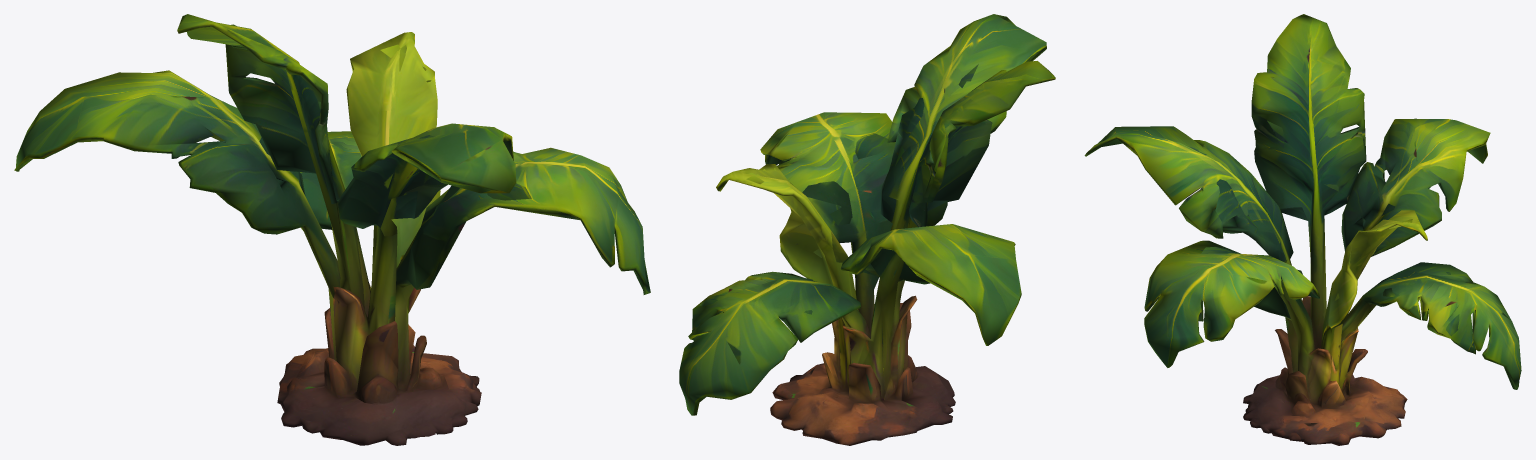
The model's file is broadleaf-plant-v3-lod.glb.
The picture shows the model from 3 angles, left to right: view 1: azimuth 30°, elevation 25°; view 2: azimuth 150°, elevation 25°; view 3: azimuth 270°, elevation 25°; orthographic projection. The views are drawn at different scales.
Visible parts, largest first — view 1: tripo_node_e58daf59-ea4f-4d6d-a5e6-bb7f7ce6bf37; view 2: tripo_node_e58daf59-ea4f-4d6d-a5e6-bb7f7ce6bf37; view 3: tripo_node_e58daf59-ea4f-4d6d-a5e6-bb7f7ce6bf37.
Part boxes in pixels (x1=…): tripo_node_e58daf59-ea4f-4d6d-a5e6-bb7f7ce6bf37: x1=14, y1=14, x2=650, y2=445; tripo_node_e58daf59-ea4f-4d6d-a5e6-bb7f7ce6bf37: x1=679, y1=14, x2=1055, y2=445; tripo_node_e58daf59-ea4f-4d6d-a5e6-bb7f7ce6bf37: x1=1084, y1=14, x2=1521, y2=445.
Size of the model in its own units: 0.8826 by 0.8219 by 0.998.
Materials: 1 (1 with a texture image).
